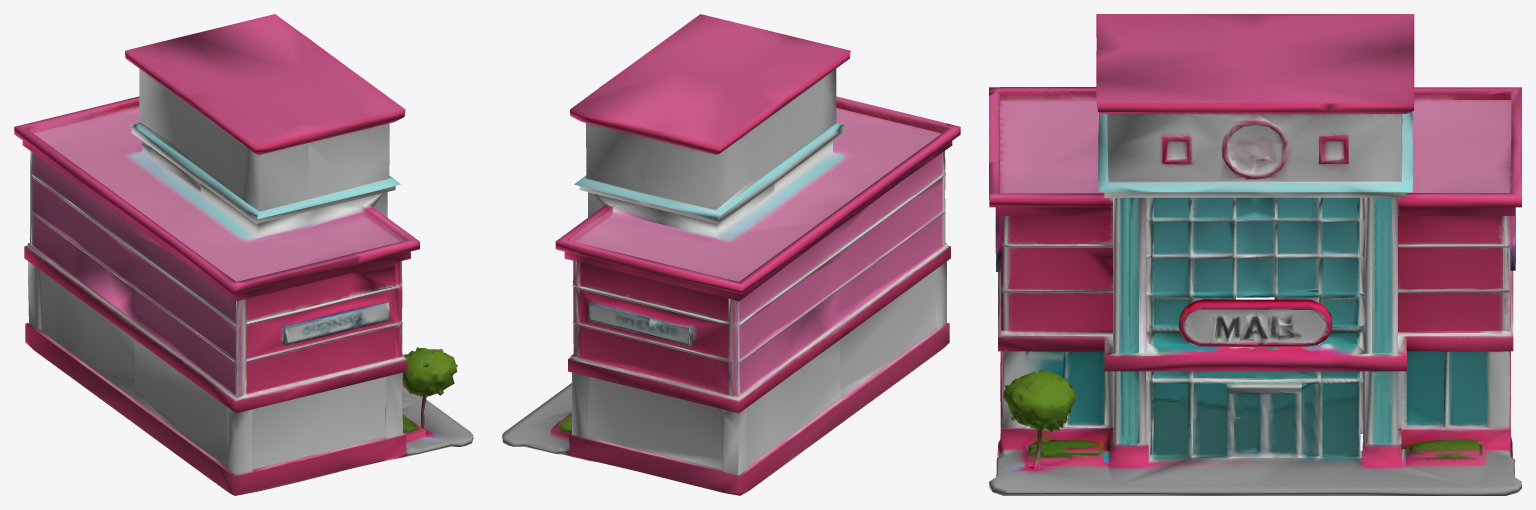
File: mall.glb
3 views of the same model, side by side, from view 1: azimuth 30°, elevation 25°; view 2: azimuth 150°, elevation 25°; view 3: azimuth 270°, elevation 25° (orthographic). The views are drawn at different scales.
Visible parts, largest first — view 1: tripo_node_b8ebec38; view 2: tripo_node_b8ebec38; view 3: tripo_node_b8ebec38.
Part boxes in pixels (<box>): tripo_node_b8ebec38: <box>14,14,473,495</box>; tripo_node_b8ebec38: <box>502,14,960,495</box>; tripo_node_b8ebec38: <box>989,14,1521,495</box>.
Size of the model in its own units: 64.93 by 77.67 by 99.99.
1 material, 1 textured.
